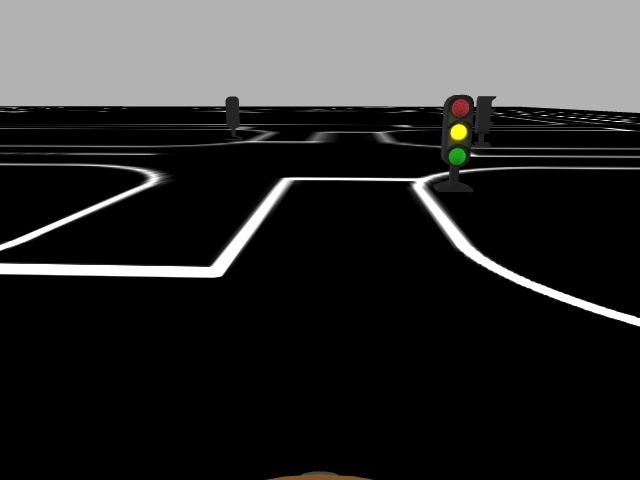yellow_light: (440, 93, 475, 167)
